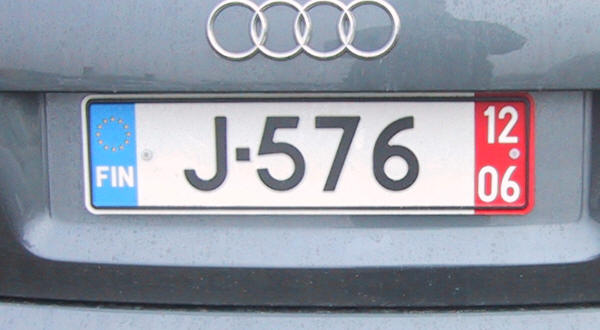license_plate: (83, 96, 533, 216)
